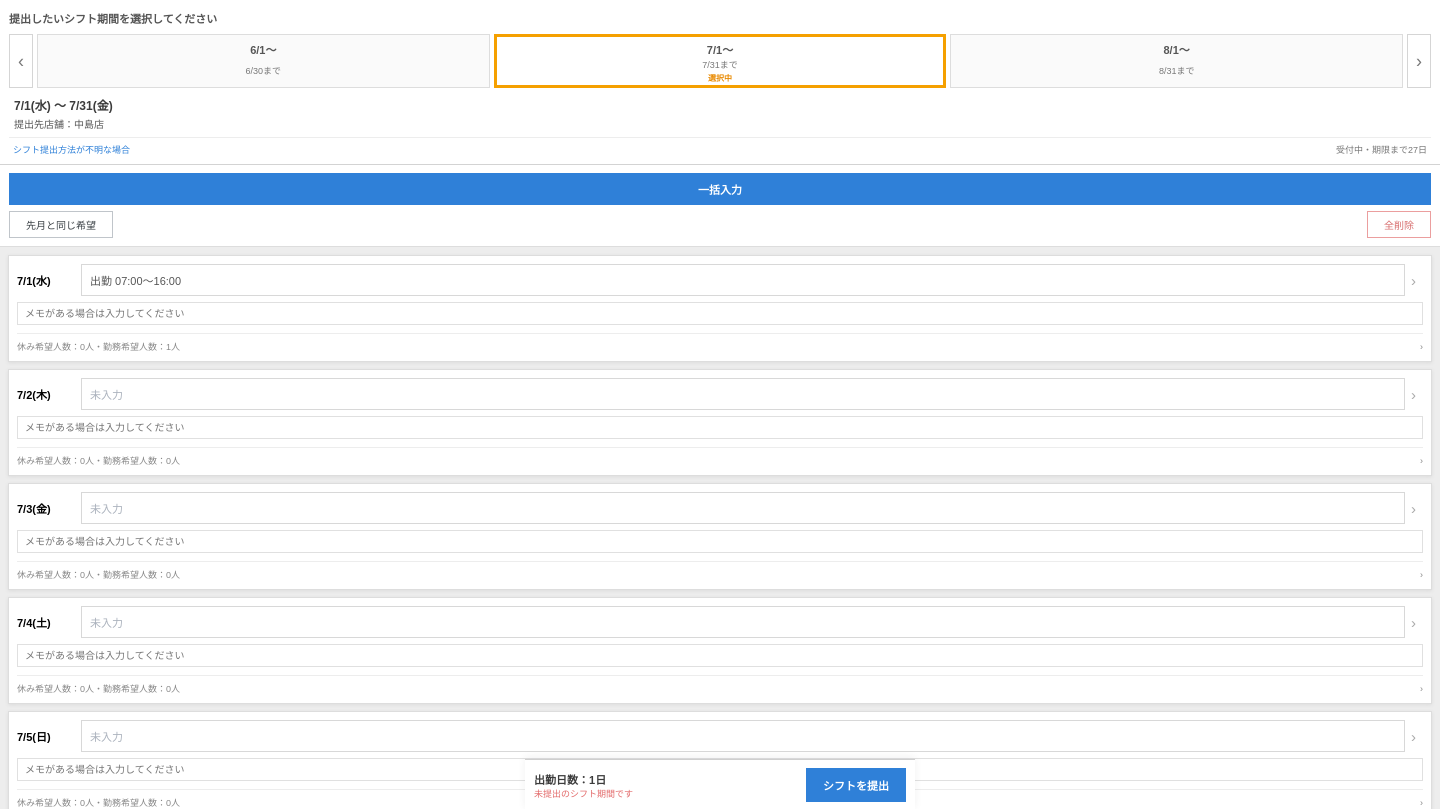
RequestEditor › 「先月と同じ希望」ボタンを押すと先月の曜日パターンが draft にセットされる
Step 1. Click the button "先月と同じ希望" → (61,224), box [9, 211, 113, 238]
(page scrolled)
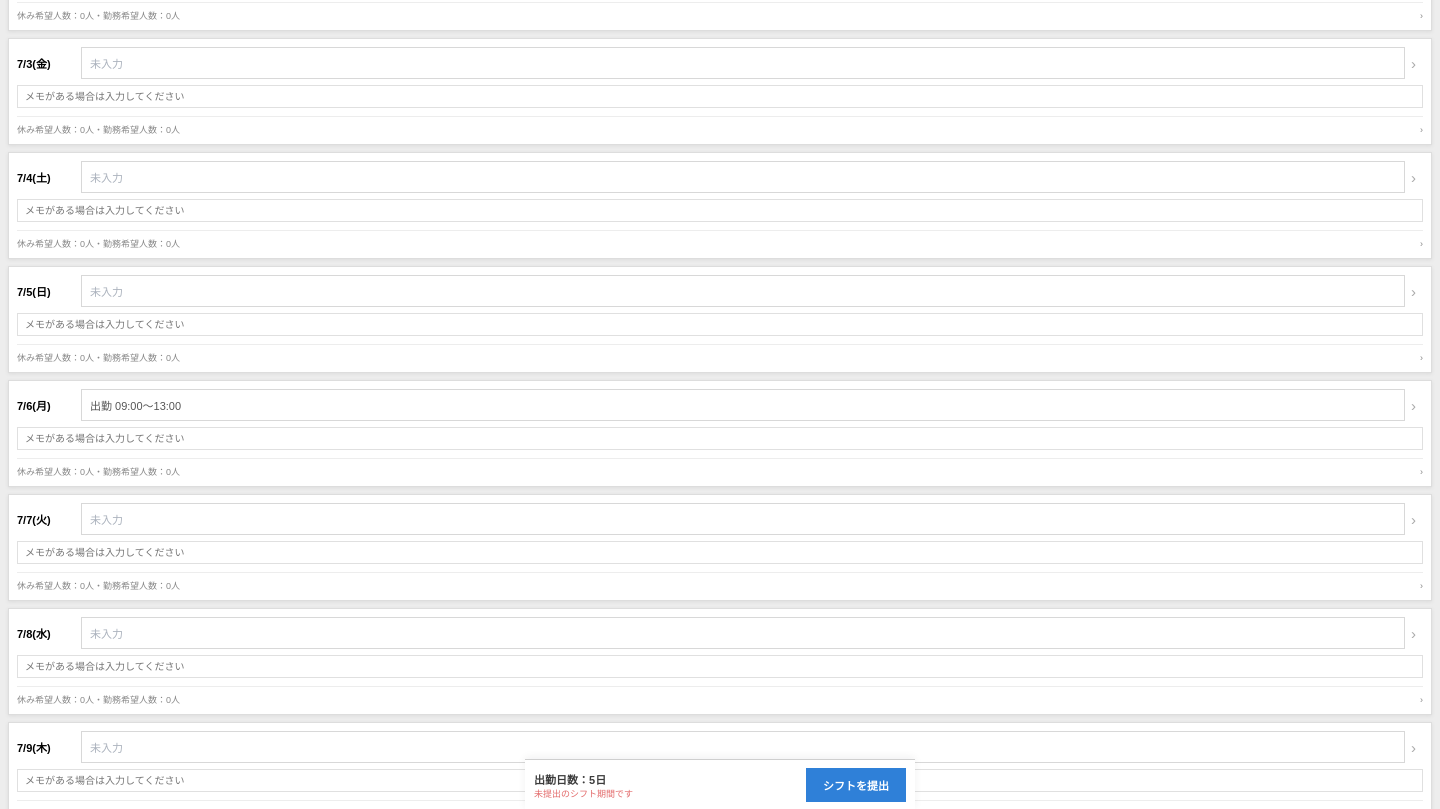
Result: the button "7/6(月) 出勤 09:00〜13:00 ›" is shown at [17, 389, 1423, 421]
